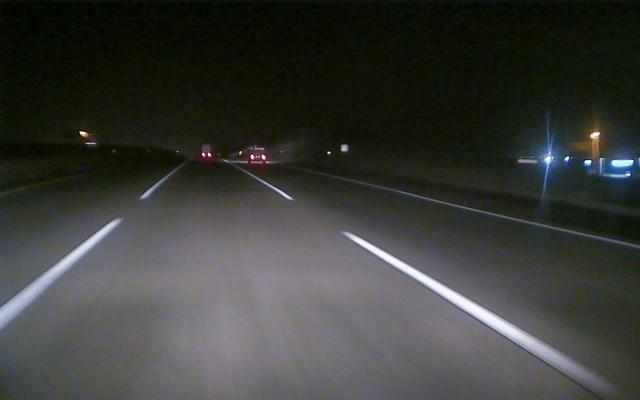lane: (260, 179, 631, 398), (2, 179, 164, 328), (391, 189, 640, 250)
